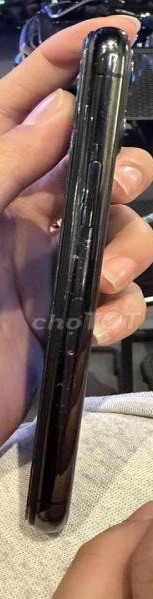scratch: (37, 354, 111, 446), (68, 199, 106, 323), (80, 72, 125, 134)
